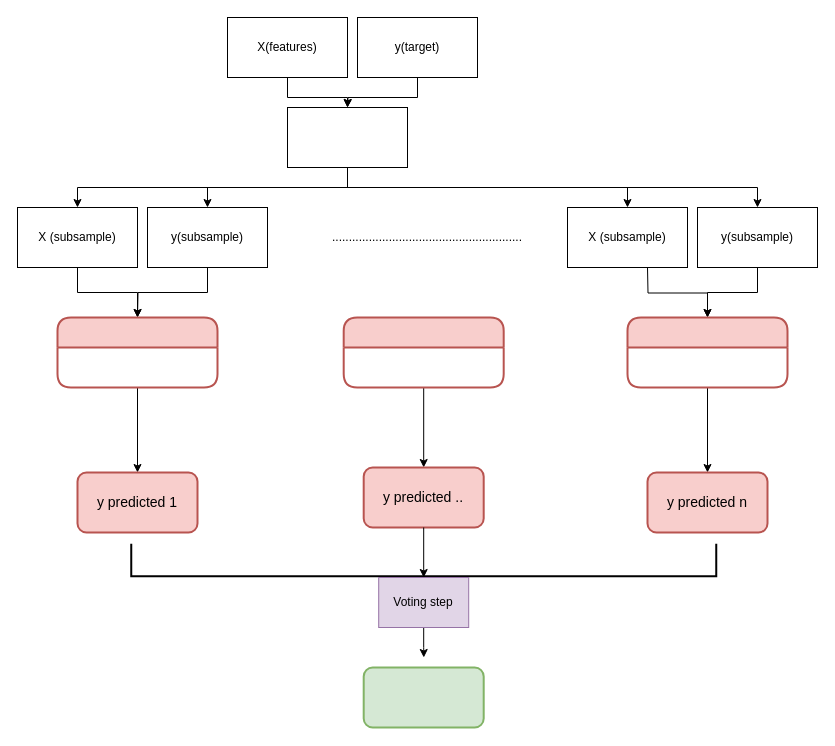
Some shapes in this 835 by 746 pixel diagram are drawn without their labels. The box of each missing label's shape, as (x1, y1, x2, y2) in pixels:
Estimator ...: (342, 316, 504, 388)
Estimator 1: (56, 316, 218, 388)
Estimator n: (626, 316, 788, 388)
Subsampling: (286, 106, 408, 168)
y predicted: (362, 666, 484, 728)
